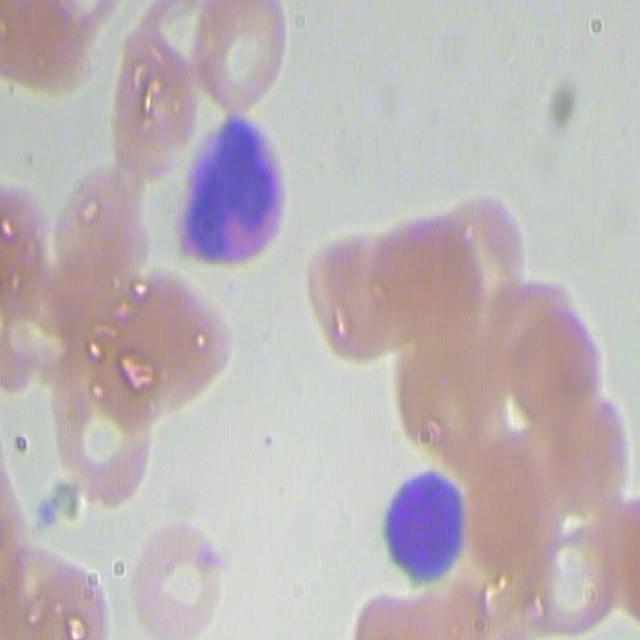RBC: (490, 396, 627, 640), (397, 341, 565, 453), (401, 208, 538, 338), (524, 270, 628, 407), (4, 179, 62, 423), (52, 373, 153, 506), (311, 222, 405, 364), (90, 302, 228, 395), (74, 154, 145, 332), (129, 519, 227, 637), (188, 0, 288, 105), (5, 548, 111, 638), (0, 0, 98, 97), (368, 585, 502, 640)
WBC: (173, 103, 294, 288), (394, 465, 465, 592)
platelets: (546, 63, 586, 142), (30, 486, 70, 544)
